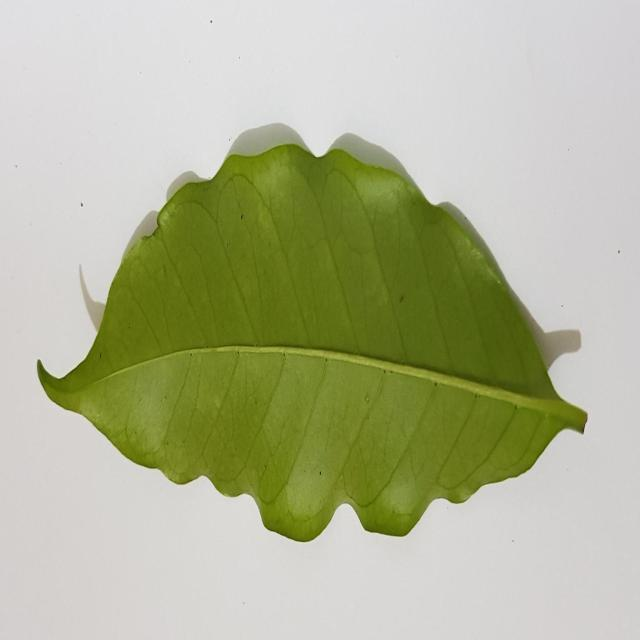nodisease: (38, 125, 587, 541)
